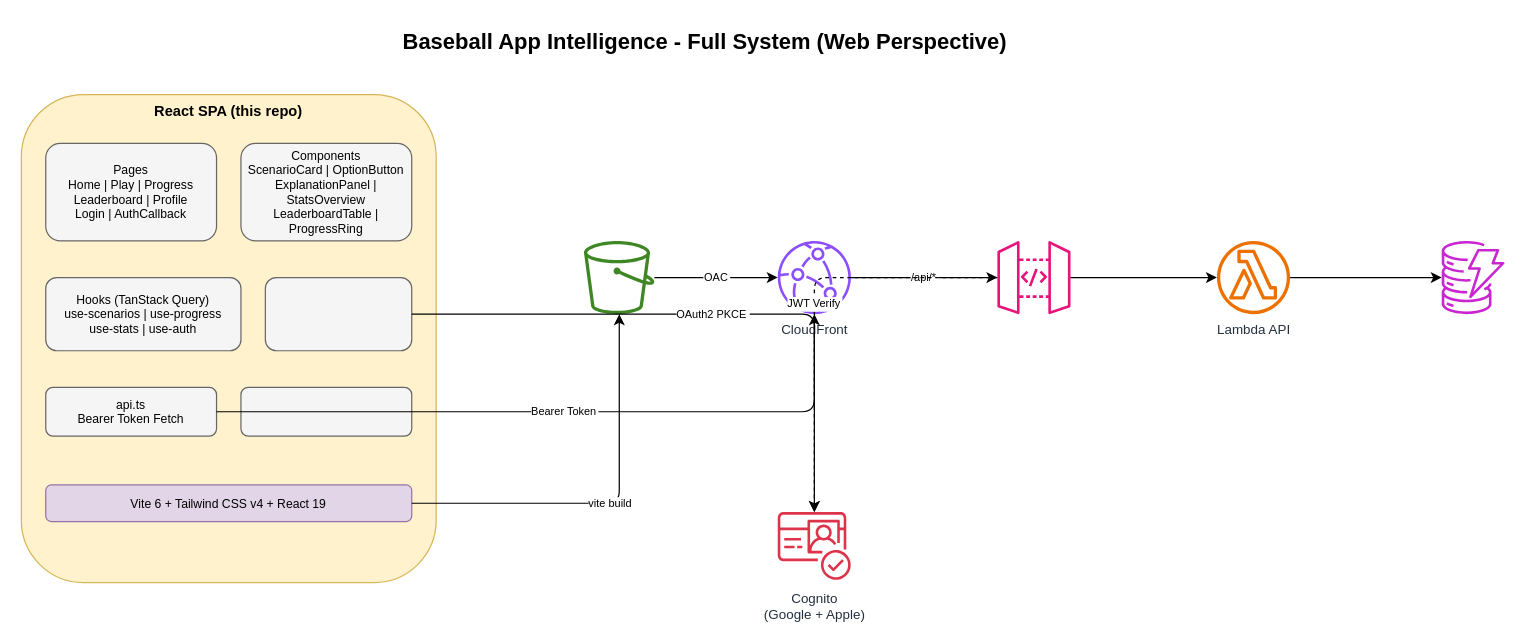
The diagram is 1531 pixels wide and 643 high, and some of its shapes have lost their labels. The centre of each missing label's shape, as x and y in pixels:
"API Gateway" belongs at point 1033,277.
"Auth Context PKCE + Token Mgmt" belongs at point 338,313.
"cognito.ts jose JWT verify" belongs at point 326,411.
"DynamoDB" belongs at point 1472,277.
"S3 Bucket (Built Assets)" belongs at point 618,277.
